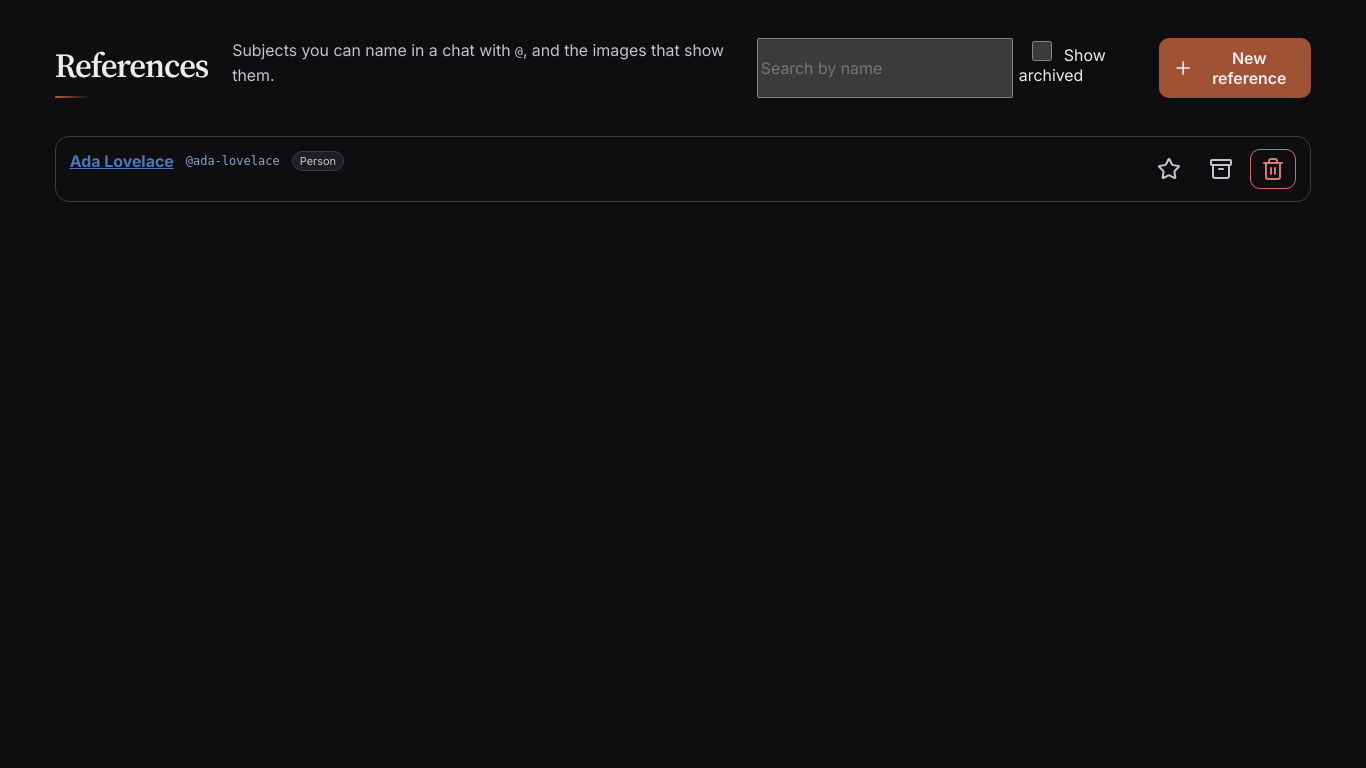
Test: references library › says an image shared with another reference would not be lost
Click the button named "Delete permanently": click(1273, 169) [1250,149,1296,189]
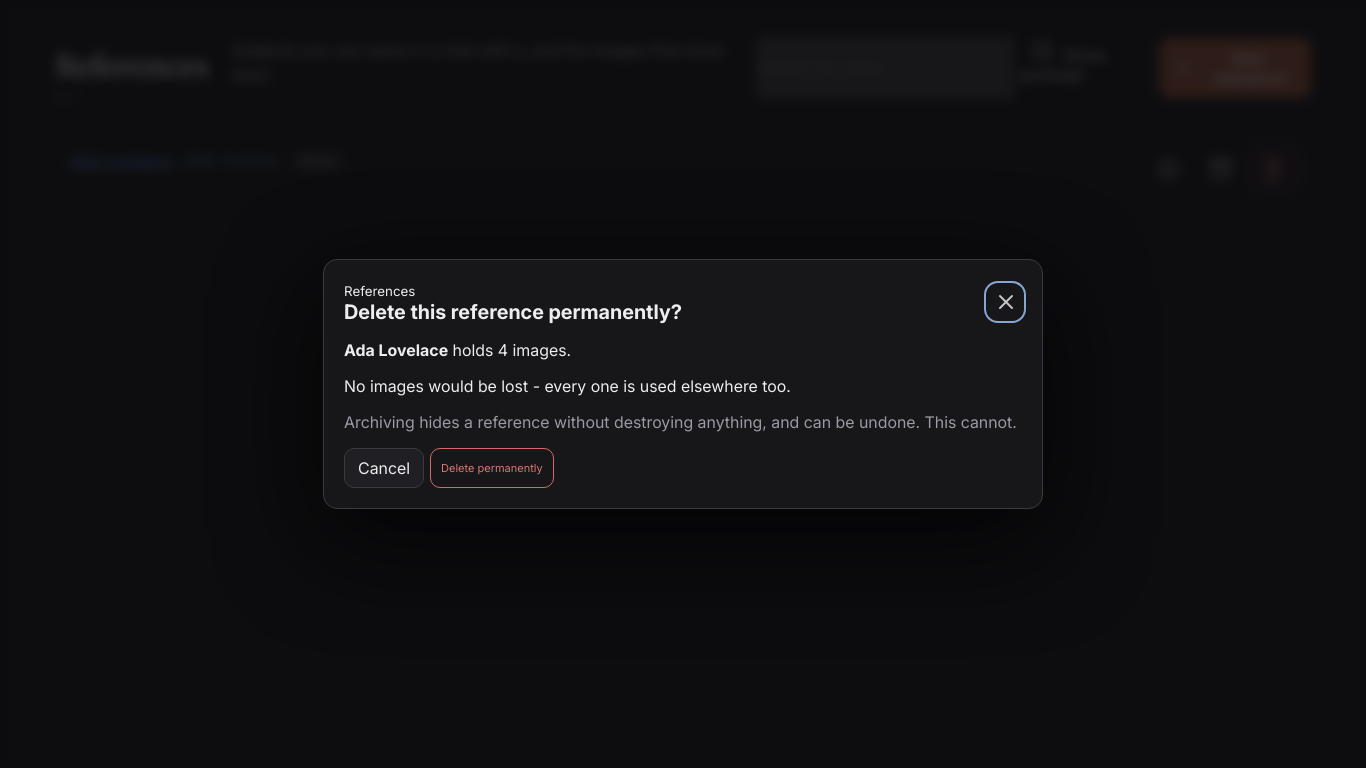
expect the text "No images would be lost - every one is used elsewhere too." is shown: met, box [344,376,791,396]
